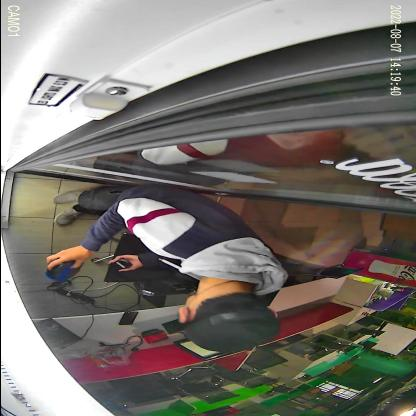blue: (44, 257, 82, 283)
